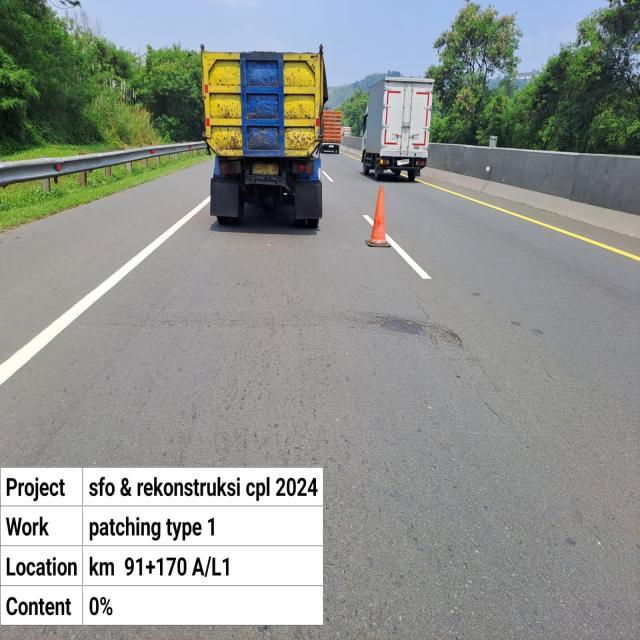Buraco: (362, 314, 467, 351)
